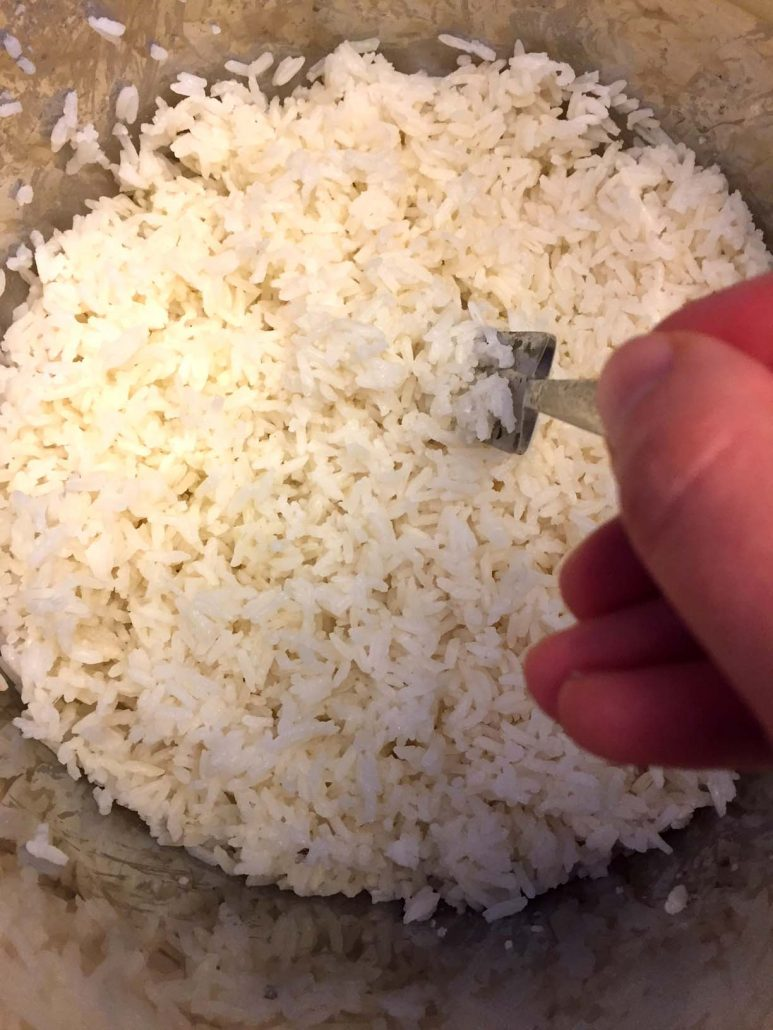rice: (6, 40, 736, 885)
